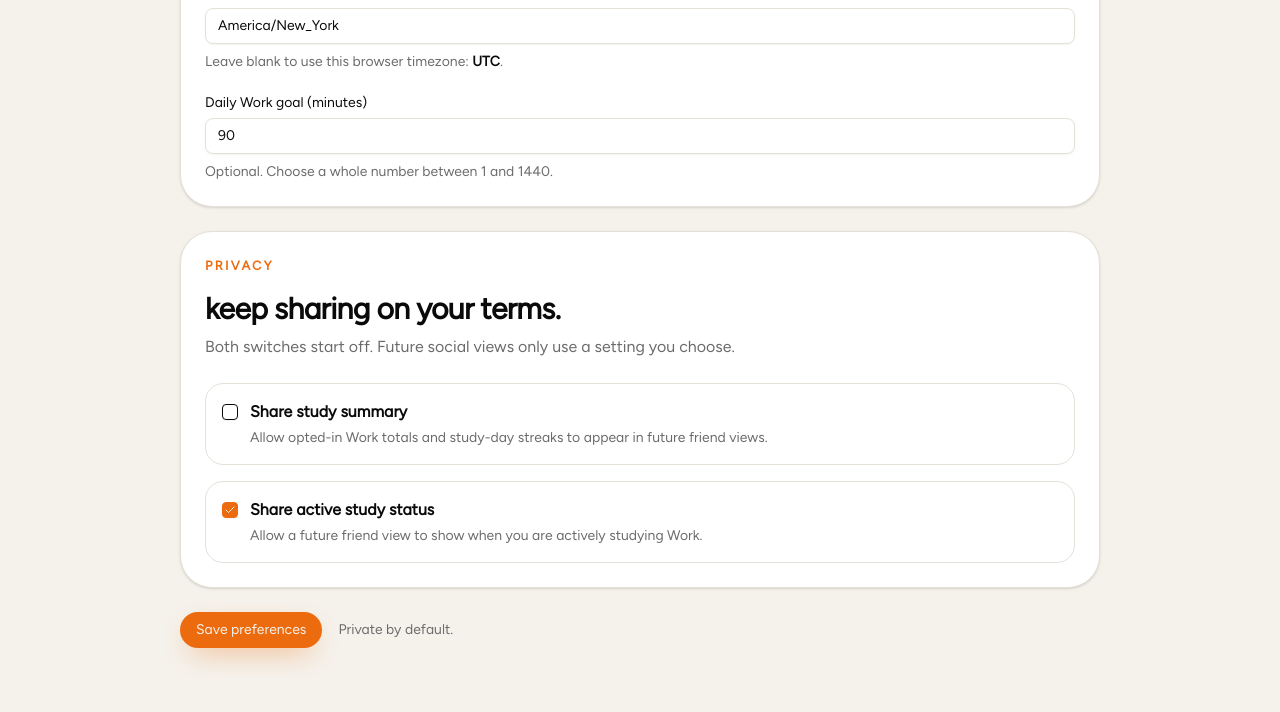
Test: SettingsPage › associates server field errors with the matching input
(page scrolled)
Expected: the field showing "America/New_York" is shown, [205, 8, 1075, 44]
Click the button "Save preferences" at (251, 630), box [180, 612, 322, 648]
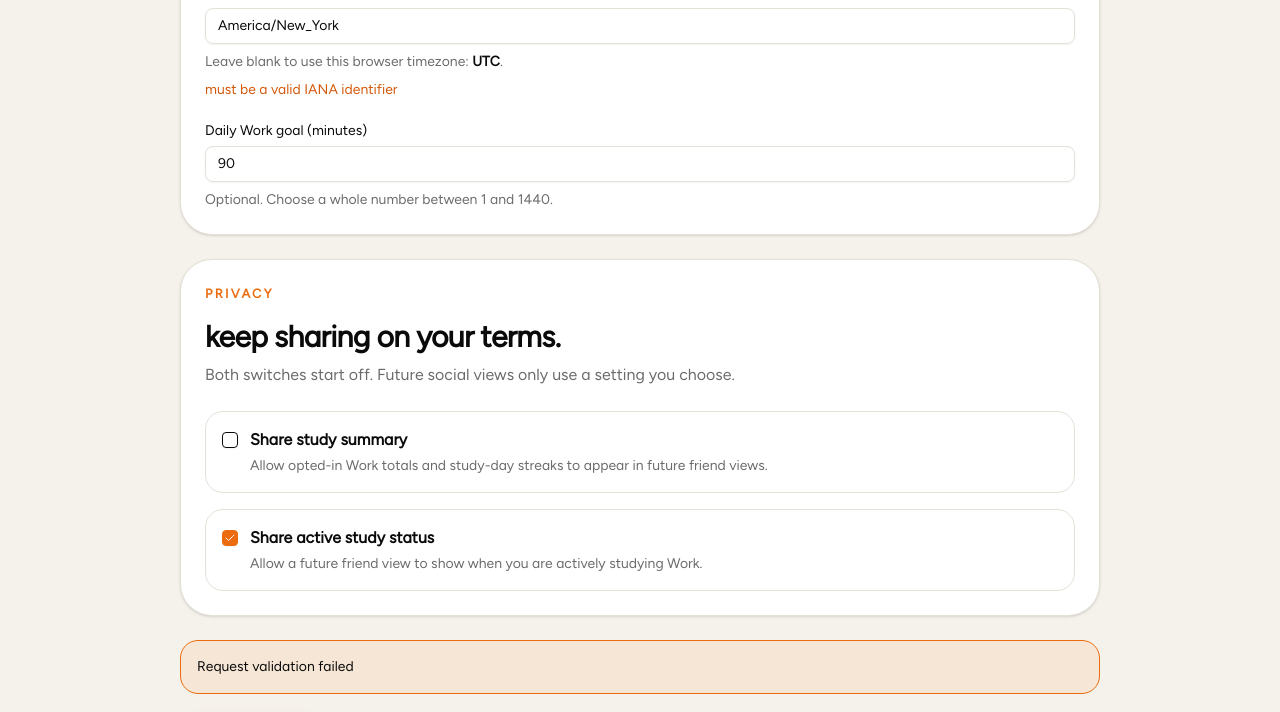
Expected: the text "must be a valid IANA identifier" is shown, [205, 81, 398, 98]
